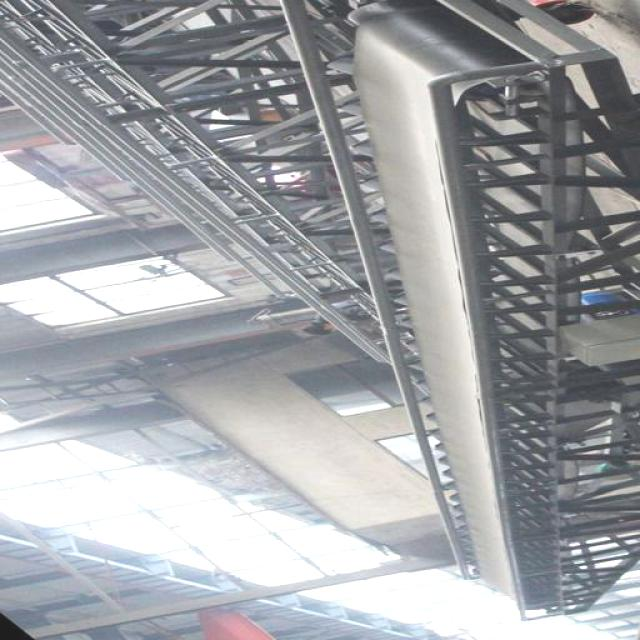conveyor: (358, 0, 520, 613)
